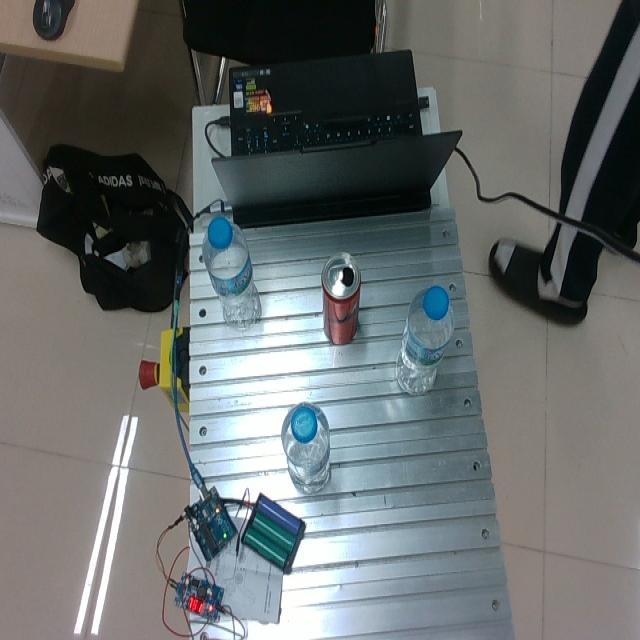coca: (320, 252, 361, 345)
lavie: (393, 282, 455, 394), (202, 215, 261, 329), (281, 403, 330, 493)
